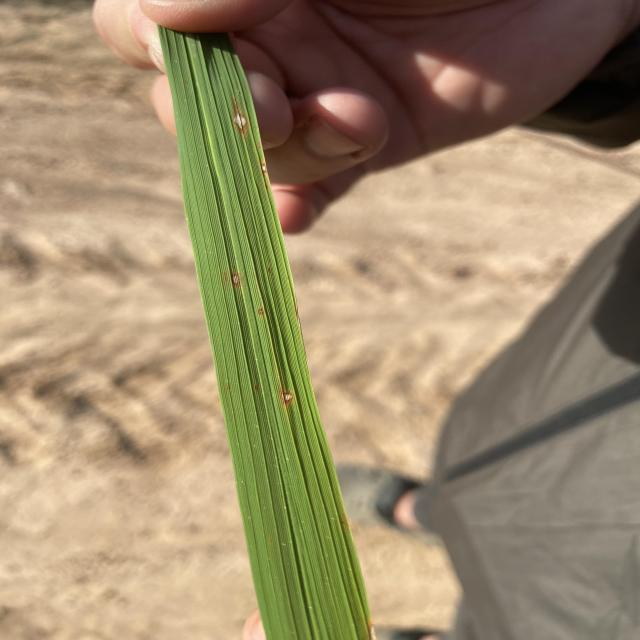Dao on: (233, 106, 248, 136), (281, 392, 293, 403), (231, 273, 241, 284), (260, 165, 267, 173), (258, 309, 264, 314)
